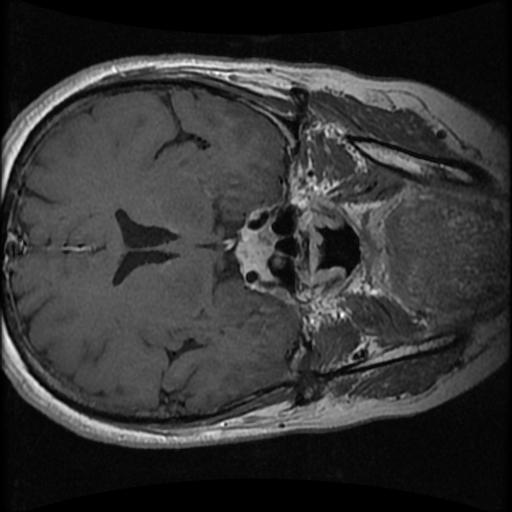pituitary tumour: (235, 227, 275, 272)
